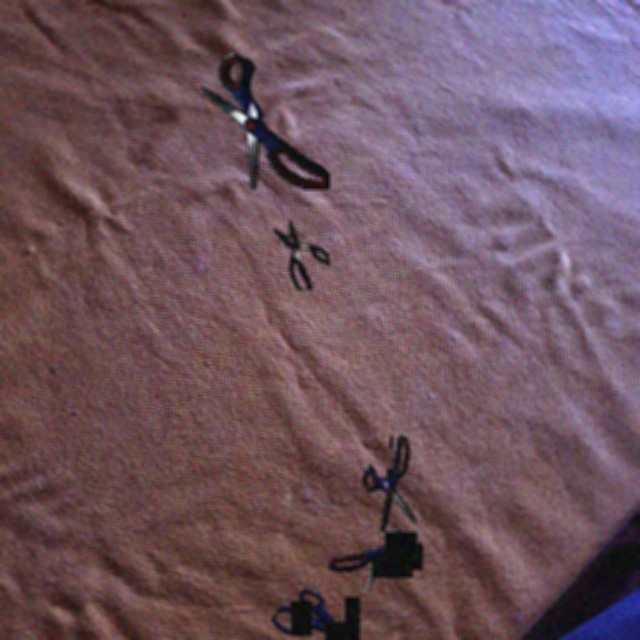scissors: (201, 54, 330, 190), (328, 530, 423, 592), (362, 435, 416, 532), (271, 589, 368, 640), (274, 221, 330, 290)
